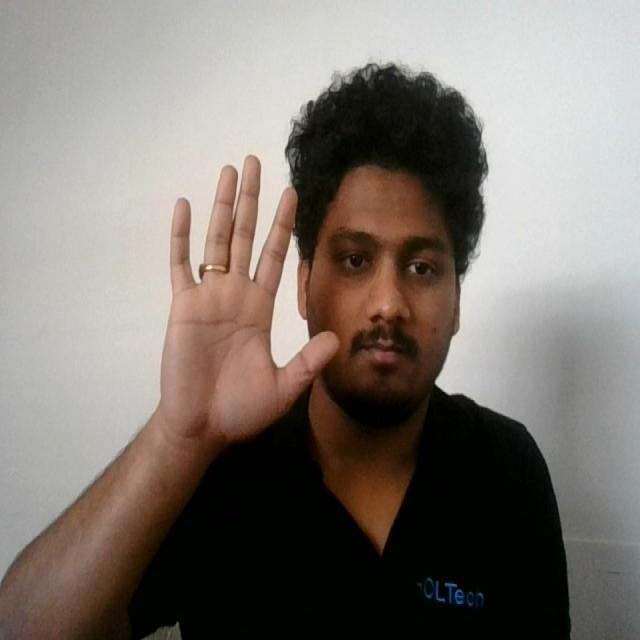Hello: (154, 148, 344, 462)
